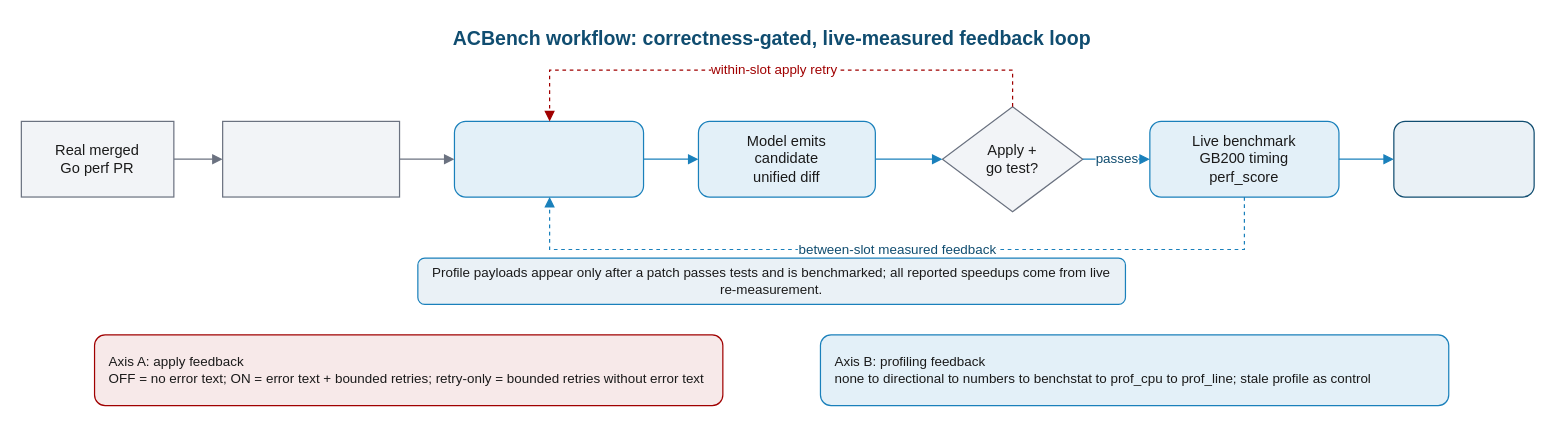
Image size: 1556x427. Some labels were removed from this diagram. Each missing label, with the centre of its shape:
"Best-of-K cell score (K=4)" goes at (1463,158).
"Harness baseline + tests gold speedup" goes at (310,158).
"Prompt slot k task + prior diff + feedback string" goes at (548,158).
